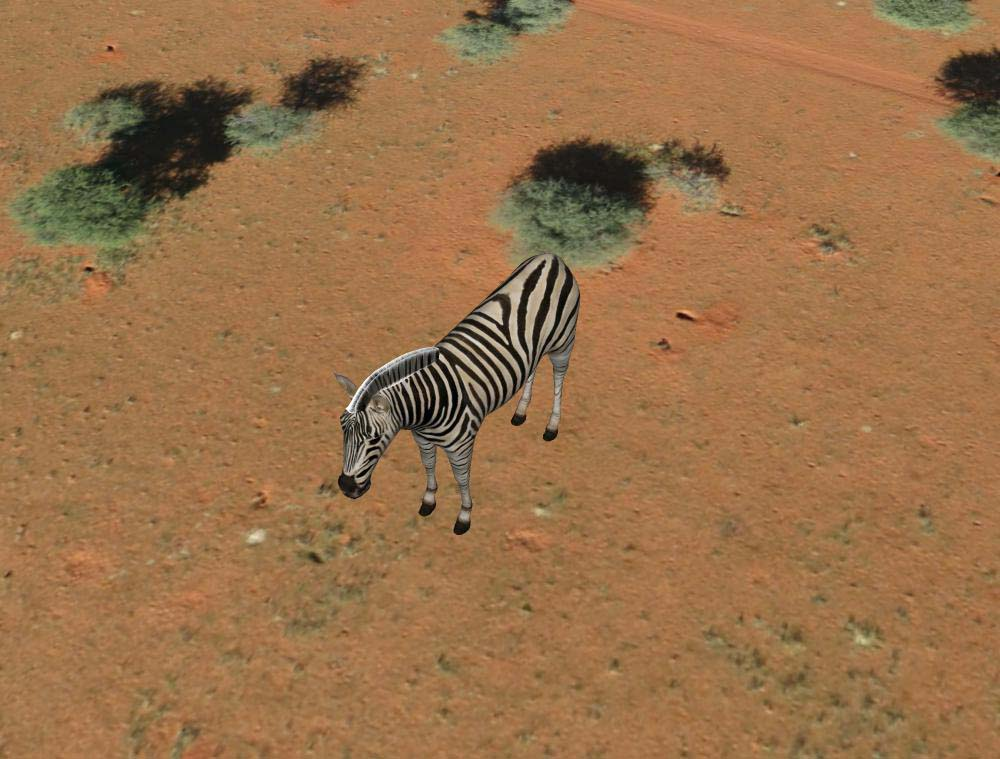zebra: (336, 250, 582, 534)
